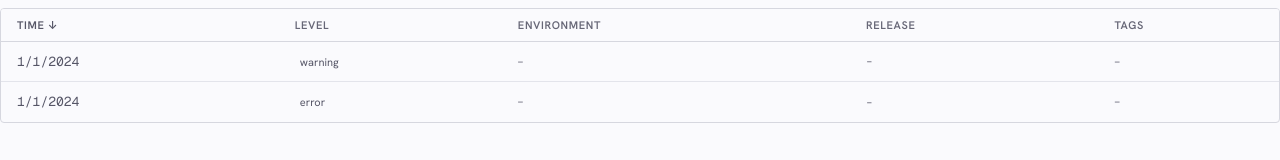
Scenario: IssueEventList › sorts by a column and flips the direction on a second click
The image size is (1280, 160).
Click the button with class "col-sort" showing "Level".
click(314, 25)  # box [295,17,332,34]
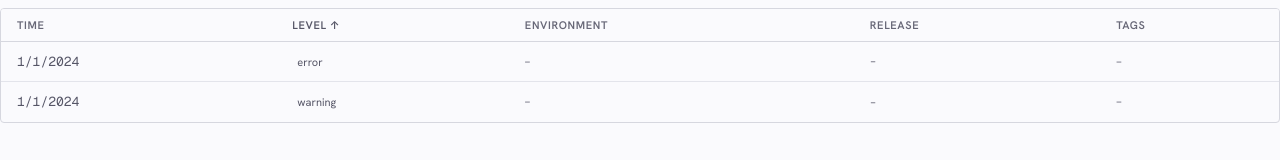
Now the icon with class "col-sort__icon" reads "↑", box [330,18,340,32]
Click the button with class "col-sort" showing "Level ↑".
click(316, 25)  # box [292,17,340,34]
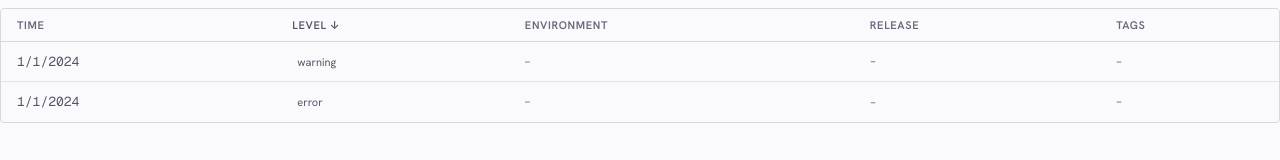
Expected: the row with class "evttable__row" shows "warning", [297,54,336,68]
Now the icon with class "col-sort__icon" reads "↓", box [330,18,340,32]
